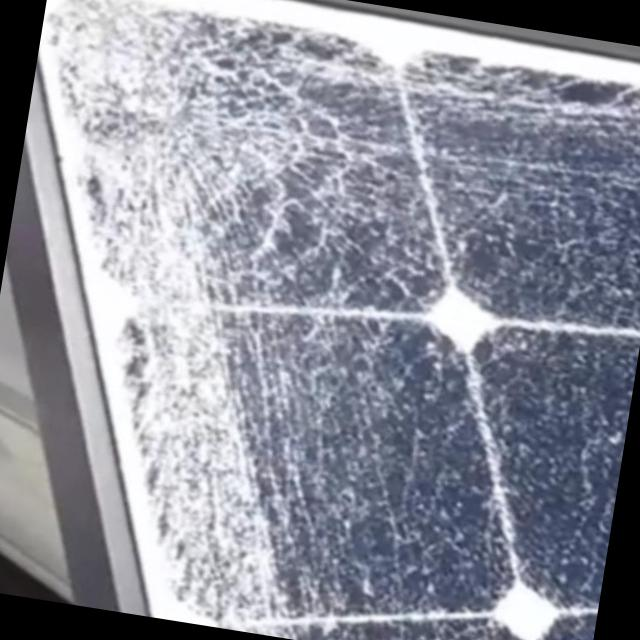faulty: (37, 0, 640, 640)
